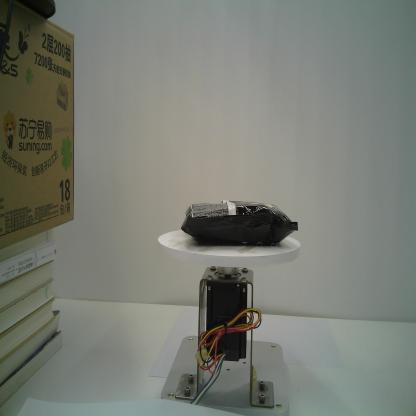Instant Noodles: (179, 198, 299, 247)
